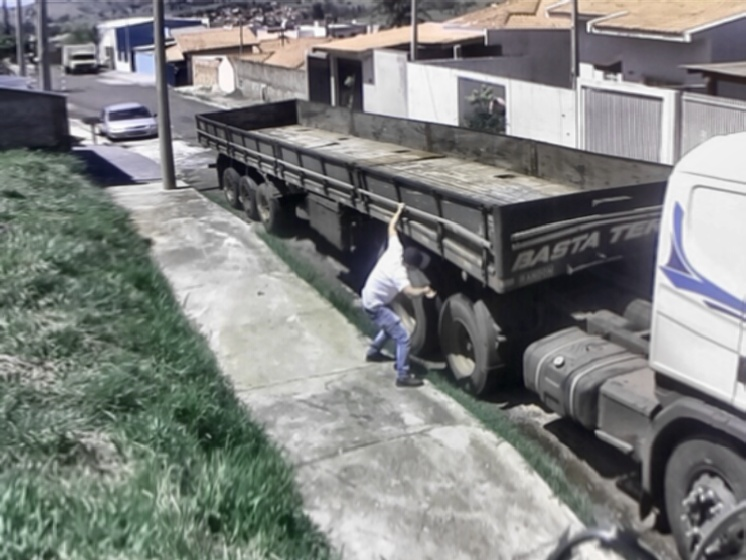person: (360, 202, 445, 387)
